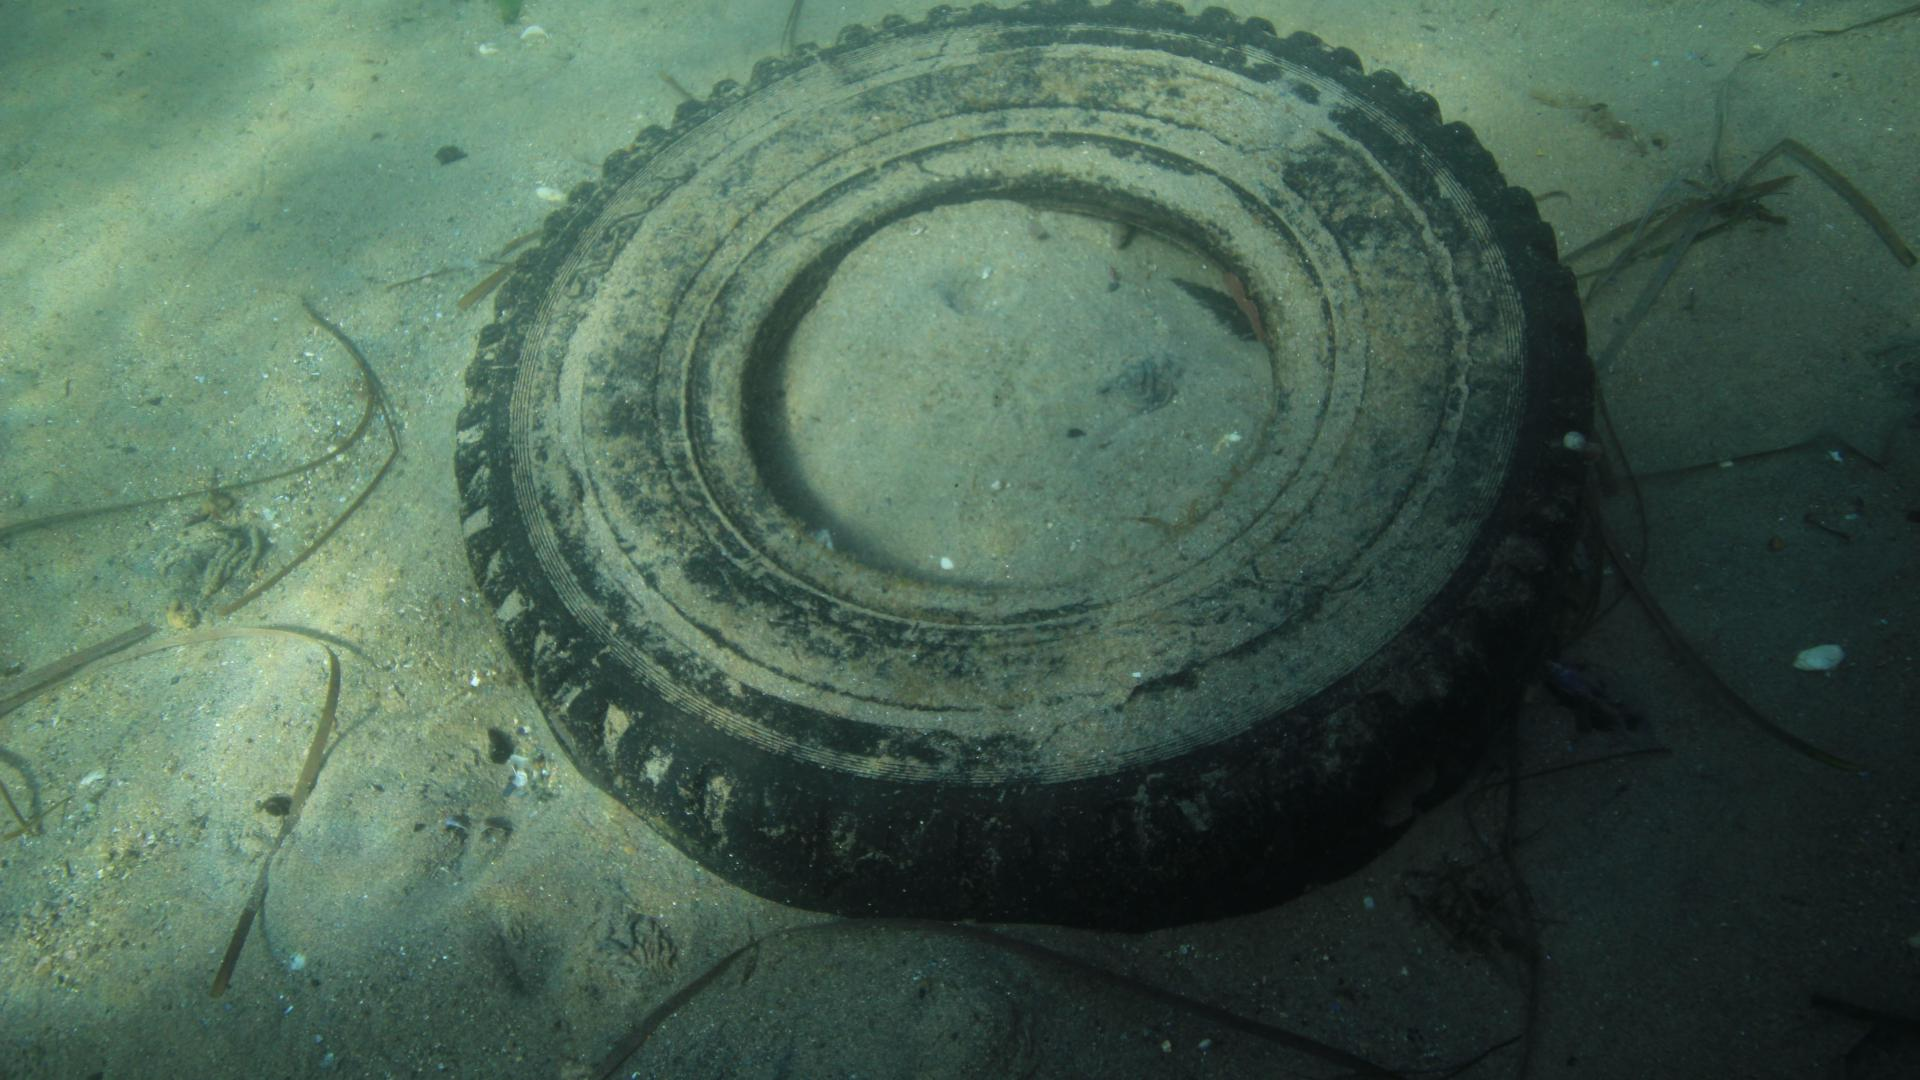tire: (450, 0, 1585, 934)
